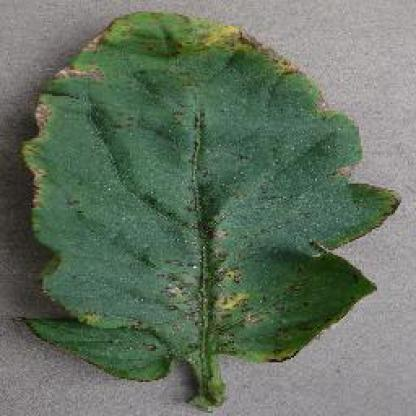bad leaf: (163, 208, 255, 362), (35, 15, 119, 142), (207, 22, 305, 88), (30, 169, 57, 220), (331, 160, 358, 186)
